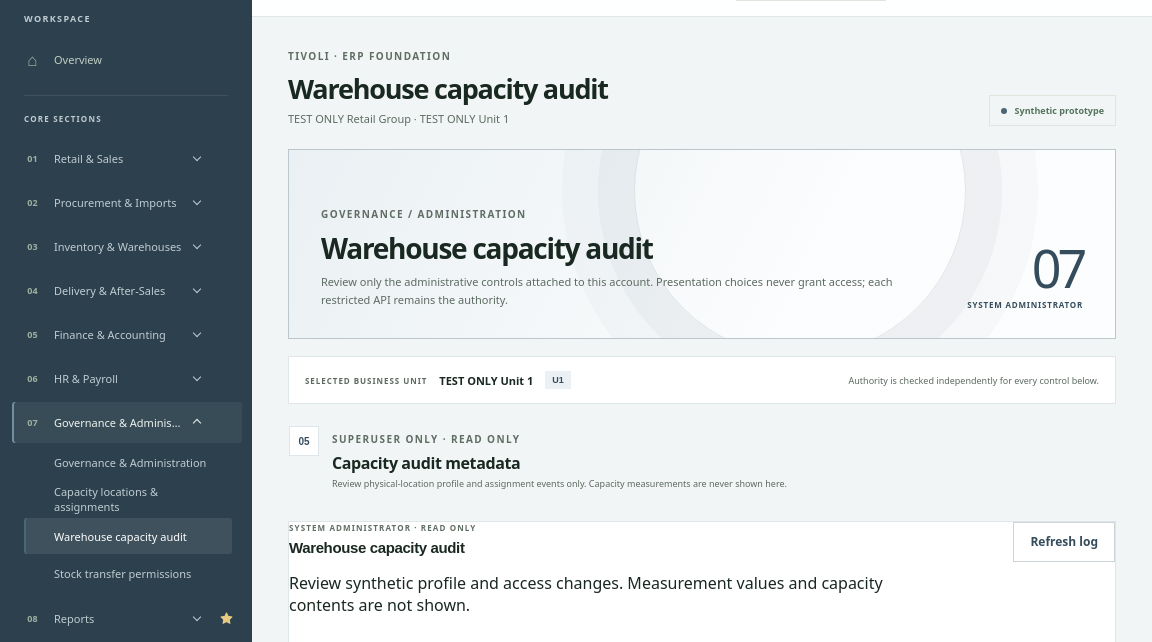
Superuser-only physical authority is independent of staff presentation and purchasing gates
This screenshot has width=1152, height=642.
Click the button "Governance & Administration".
click(128, 462)  # box x1=24 y1=444 x2=232 y2=480
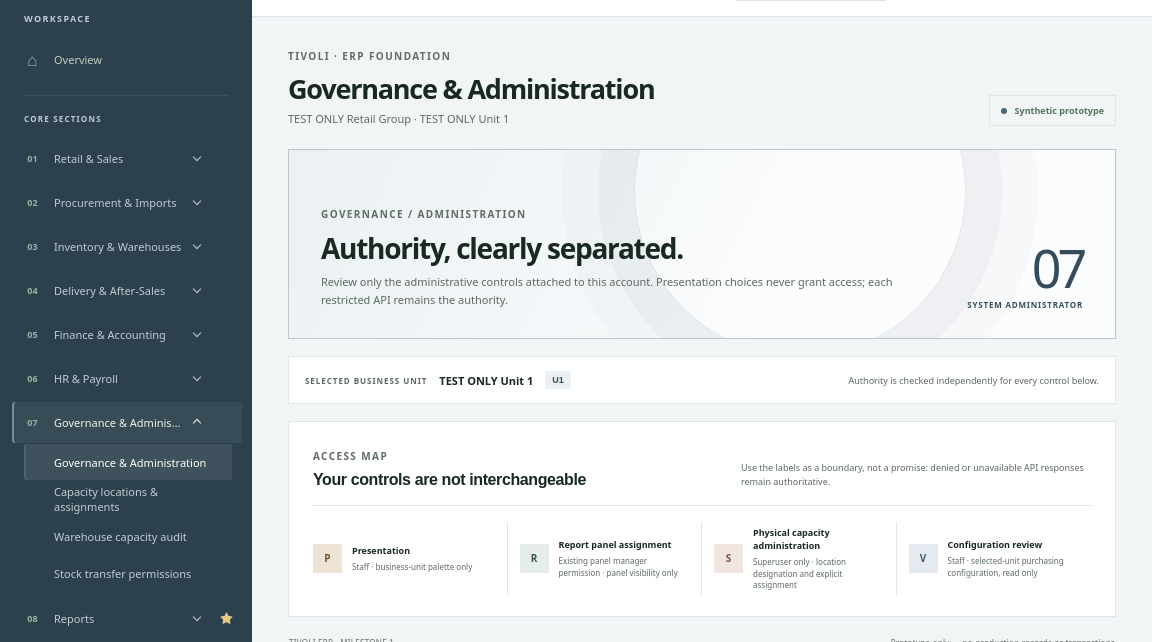
Expected: the element with class "governance-boundaries" is shown, x1=288 y1=421 x2=1116 y2=617
Click the button "Capacity locations & assignments".
click(128, 499)  # box x1=24 y1=481 x2=232 y2=517
(page scrolled)
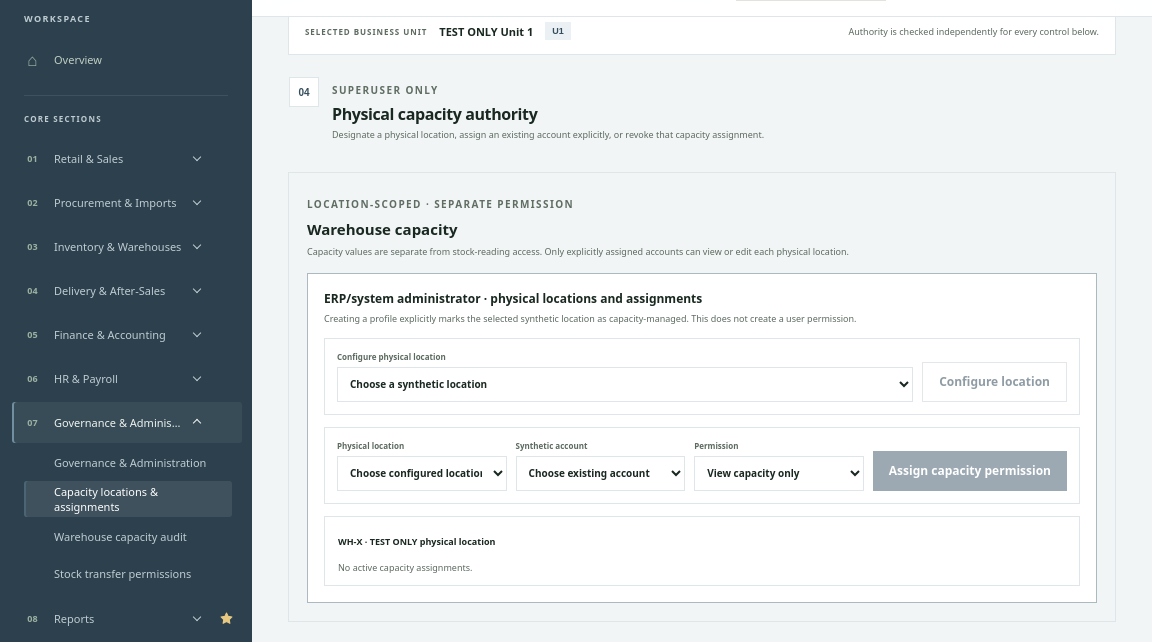
Expected: the element with class "capacity-section" is shown, x1=288 y1=172 x2=1116 y2=622
